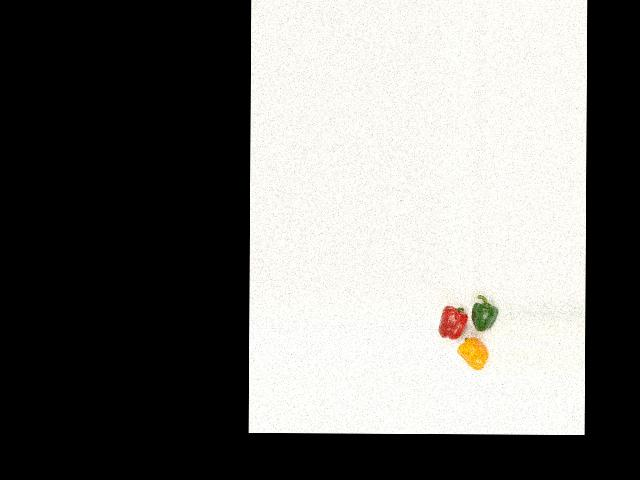bell_pepper: (469, 293, 498, 332)
